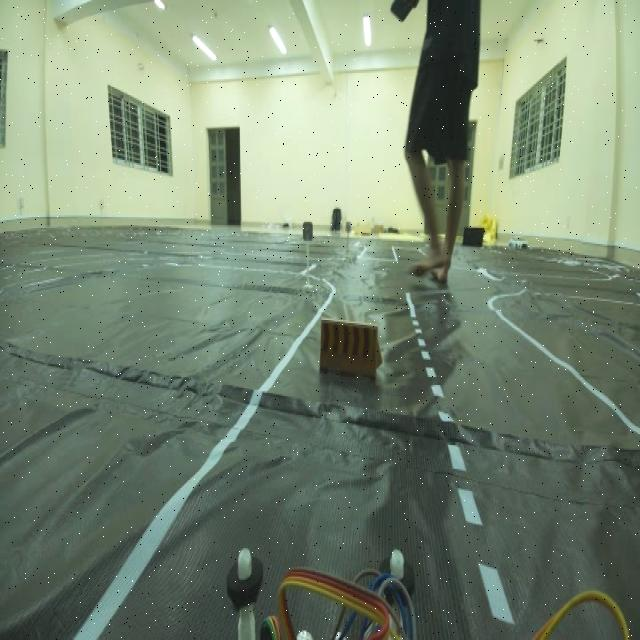roadblock: (312, 298, 392, 409)
